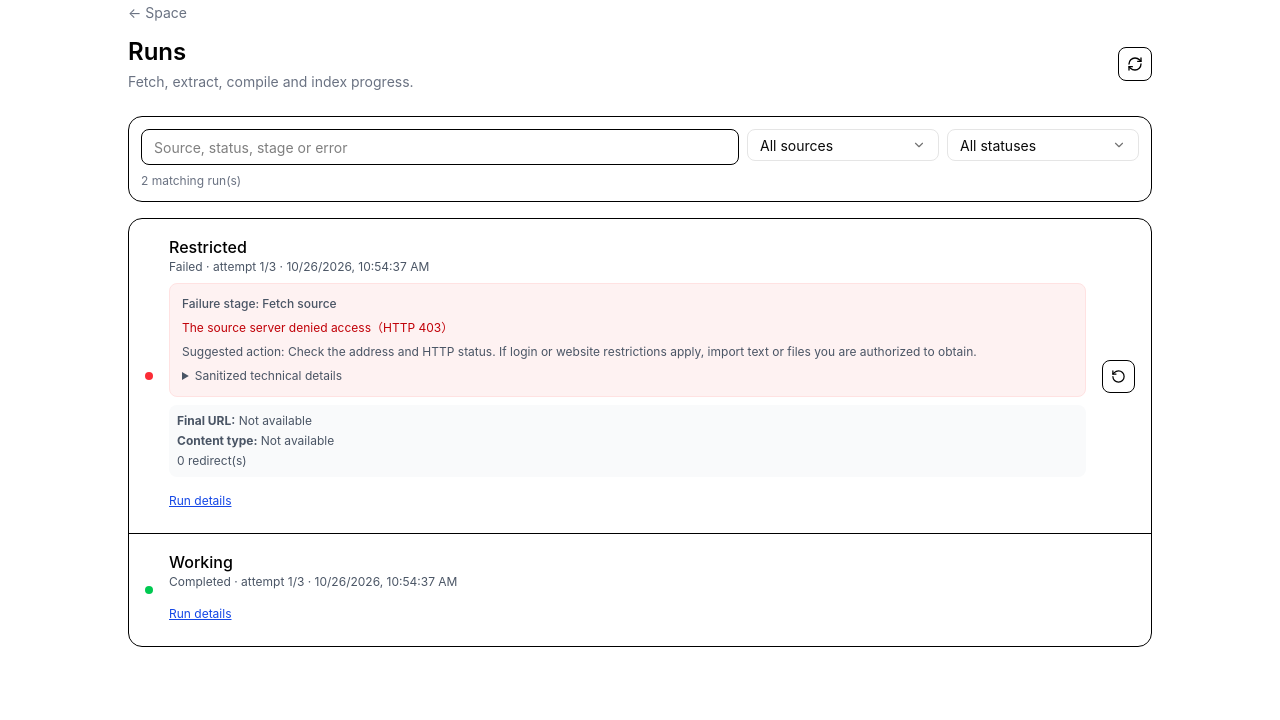
Test: RunsPage › searches the localized HTTP failure reason shown to the user
Expected: the text "Restricted" is shown, [169,237,247,257]
Type "denied access" into the field named "Search runs" at x=440, y=147, box [141,129,739,165]
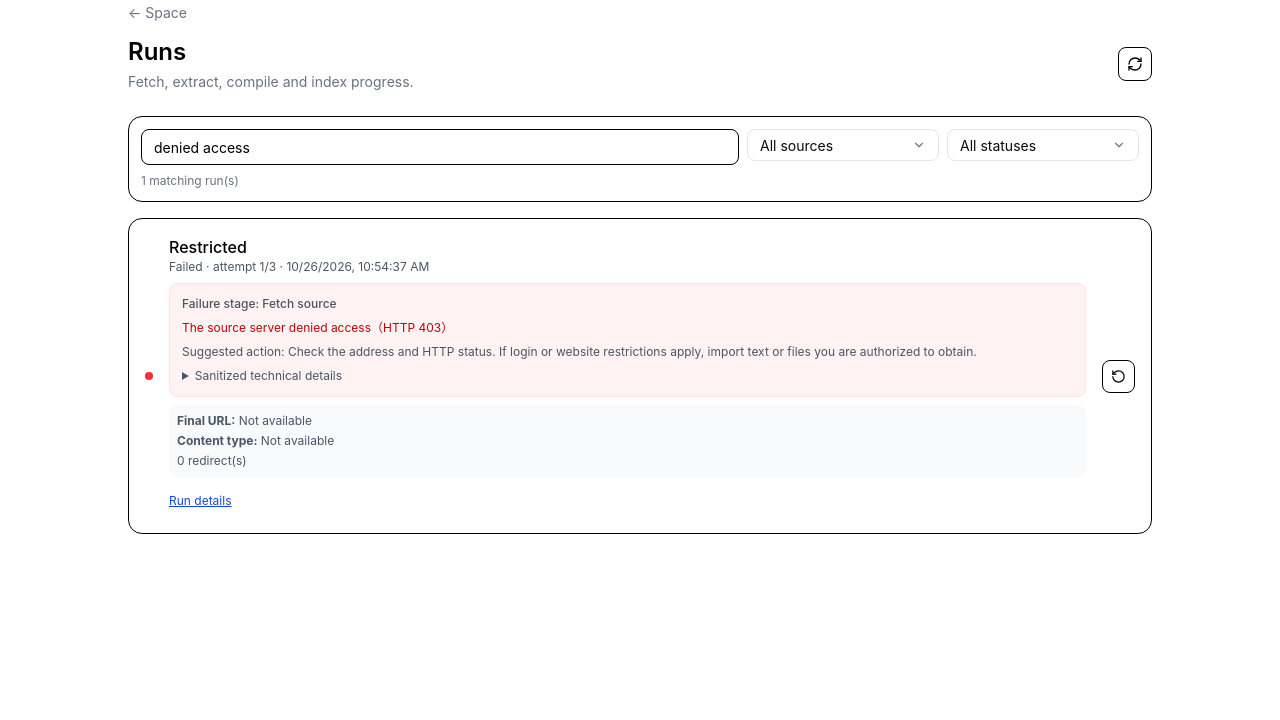
Expected: the text "Restricted" is shown, [169,237,247,257]
Result: the text "Working" is gone
